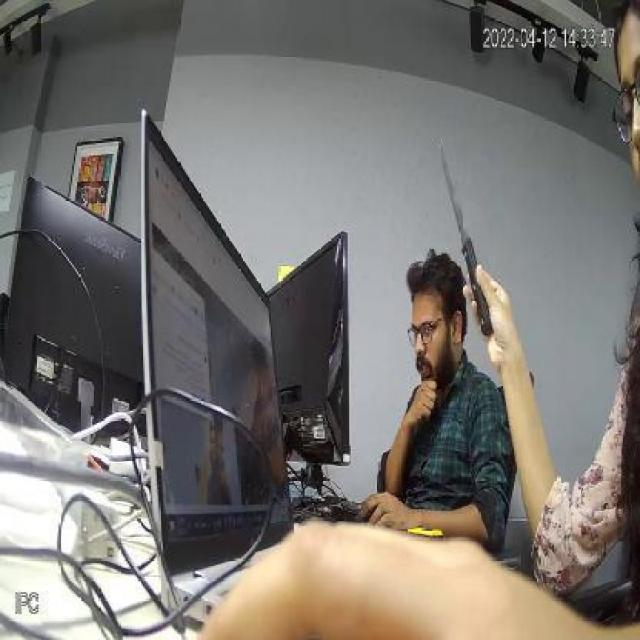-: (426, 127, 483, 256)
